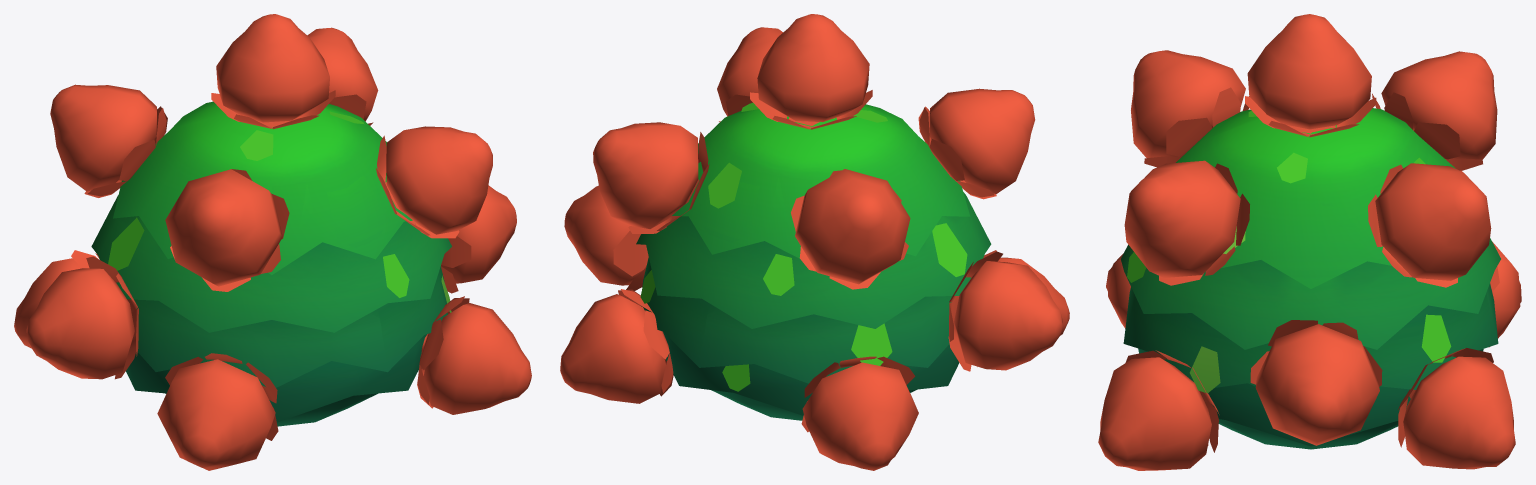
The model's file is Strawberry2.fbx.
3 views of the same model, side by side, from view 1: azimuth 30°, elevation 25°; view 2: azimuth 150°, elevation 25°; view 3: azimuth 270°, elevation 25° (orthographic). The views are drawn at different scales.
Parts seen in each view (by area): view 1: Kust.034, Sphere.003, Sphere.017, Sphere.016, Sphere.021, Sphere.023, Sphere.020, Sphere.014, Sphere.022, Sphere.015, Sphere.018; view 2: Kust.034, Sphere.014, Sphere.018, Sphere.021, Sphere.023, Sphere.015, Sphere.003, Sphere.019, Sphere.022, Sphere.016, Sphere.017; view 3: Kust.034, Sphere.022, Sphere.016, Sphere.015, Sphere.023, Sphere.020, Sphere.019, Sphere.014, Sphere.003, Sphere.018, Sphere.017.
Part boxes in pixels (x1,y1,x2,y2): Kust.034: [91, 101, 451, 426]; Sphere.003: [165, 169, 289, 291]; Sphere.017: [157, 353, 278, 470]; Sphere.016: [376, 126, 492, 238]; Sphere.021: [26, 256, 138, 379]; Sphere.023: [211, 14, 335, 129]; Sphere.020: [417, 296, 531, 414]; Sphere.014: [50, 84, 167, 197]; Sphere.022: [441, 185, 516, 293]; Sphere.015: [307, 27, 378, 125]; Sphere.018: [14, 250, 99, 348]; Kust.034: [636, 102, 991, 420]; Sphere.014: [791, 169, 910, 289]; Sphere.018: [801, 356, 918, 470]; Sphere.021: [948, 251, 1062, 371]; Sphere.023: [750, 14, 872, 129]; Sphere.015: [593, 122, 709, 233]; Sphere.003: [918, 88, 1035, 199]; Sphere.019: [560, 289, 673, 403]; Sphere.022: [564, 185, 648, 290]; Sphere.016: [717, 27, 782, 121]; Sphere.017: [983, 250, 1069, 335]; Kust.034: [1121, 108, 1500, 449]; Sphere.022: [1250, 320, 1382, 445]; Sphere.016: [1124, 160, 1249, 285]; Sphere.015: [1368, 163, 1491, 287]; Sphere.023: [1245, 14, 1376, 137]; Sphere.020: [1098, 350, 1219, 470]; Sphere.019: [1398, 348, 1515, 469]; Sphere.014: [1372, 51, 1497, 171]; Sphere.003: [1131, 50, 1249, 167]; Sphere.018: [1489, 241, 1521, 347]; Sphere.017: [1106, 253, 1130, 328].
Bounding box in the file's own units: 2.53 × 1.91 × 1.79.
